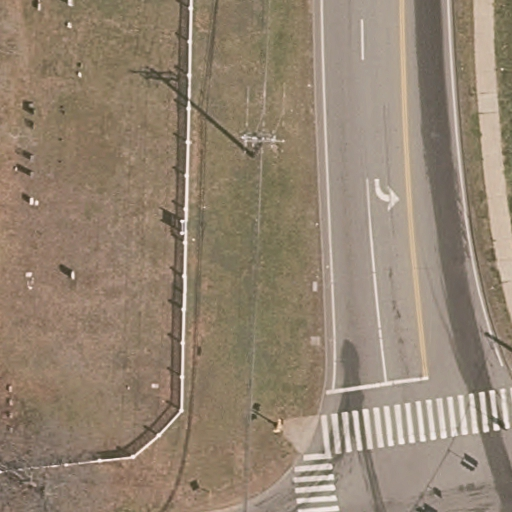DT: (237, 117, 289, 166)
